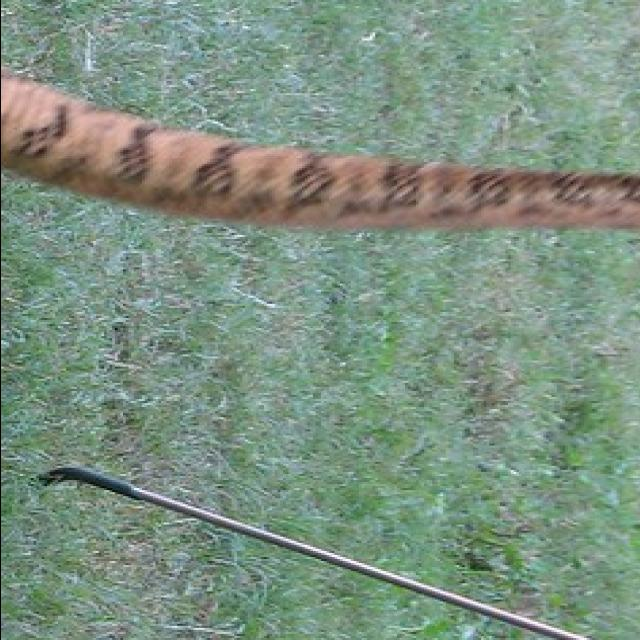Snake: (0, 0, 640, 241)
